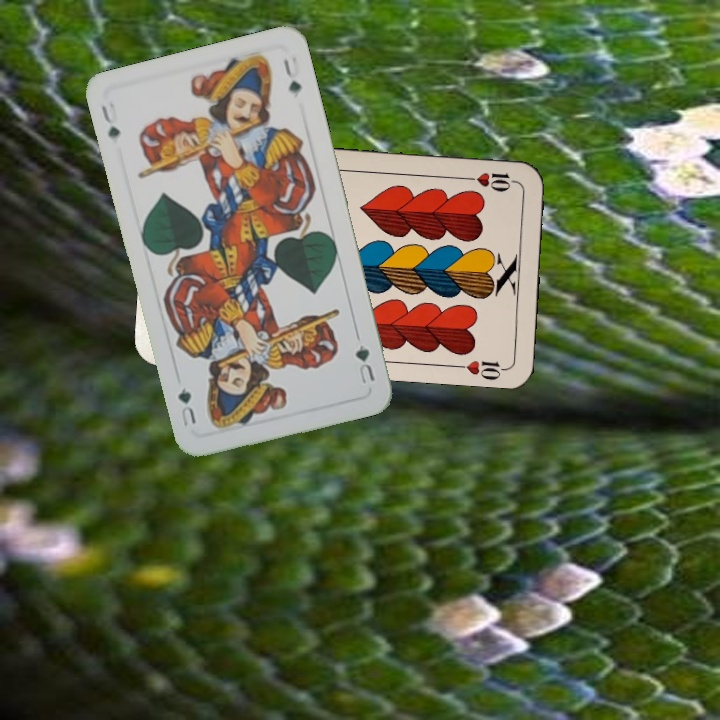GU: (351, 340, 378, 387), (97, 98, 123, 141)
H10: (460, 168, 519, 194)
